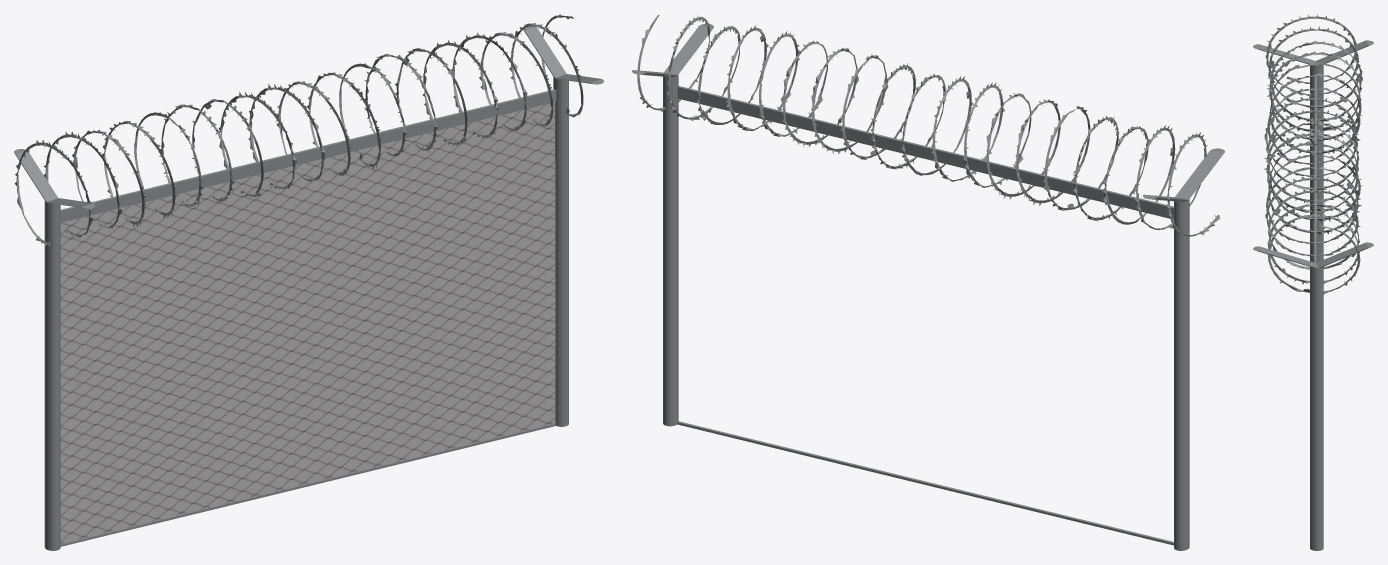
File: steel fence.glb
3 views of the same model, side by side, from view 1: azimuth 30°, elevation 25°; view 2: azimuth 150°, elevation 25°; view 3: azimuth 270°, elevation 25° (orthographic). The views are drawn at different scales.
Visible parts, largest first — view 1: net_low, Spring321; view 2: Spring321; view 3: Spring321.
Part boxes in pixels (x1,y1,x2,y2): net_low: [60, 102, 555, 543]; Spring321: [14, 14, 603, 550]; Spring321: [632, 15, 1224, 550]; Spring321: [1253, 14, 1373, 550].
Bounding box in the file's own units: 41.4 × 29.78 × 9.82.
1 material, 1 textured.
